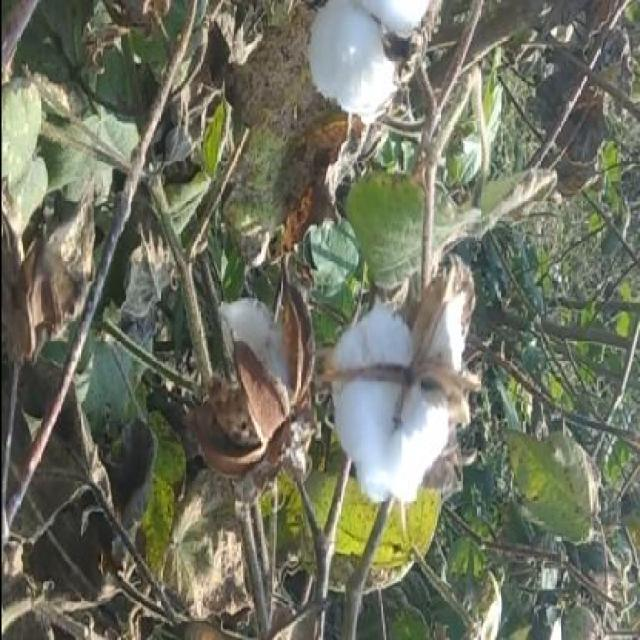cotton_ready: (286, 288, 486, 509)
